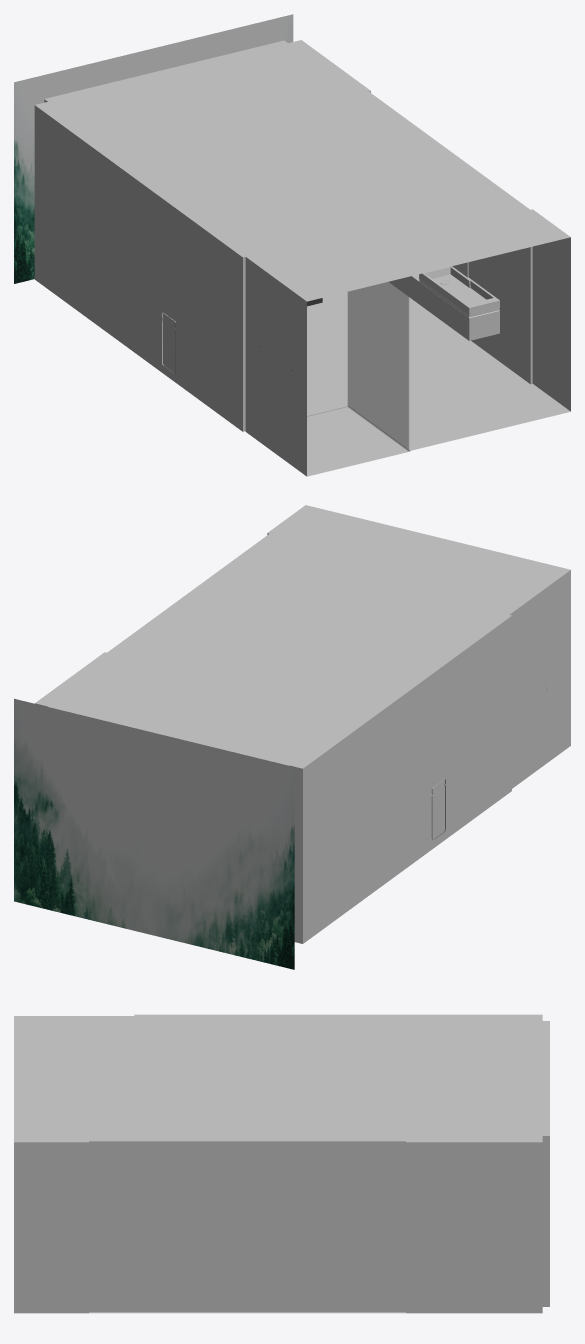
The model's file is Modern Bathroom.fbx.
3 renders of one model, top to bottom at view 1: azimuth 30°, elevation 25°; view 2: azimuth 150°, elevation 25°; view 3: azimuth 270°, elevation 25°, orthographic. The views are drawn at different scales.
Parts seen in each view (by area): view 1: Modern Bathroom; view 2: Modern Bathroom; view 3: Modern Bathroom.
Part boxes in pixels (left/top/right/bottom): Modern Bathroom: left=14, top=14, right=570, bottom=476; Modern Bathroom: left=14, top=505, right=570, bottom=969; Modern Bathroom: left=14, top=1014, right=549, bottom=1313.
Bounding box in the file's own units: 1025 × 708 × 1805.
